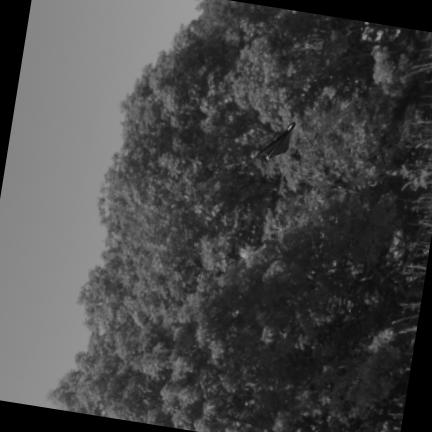Shahed: (251, 123, 295, 159)
